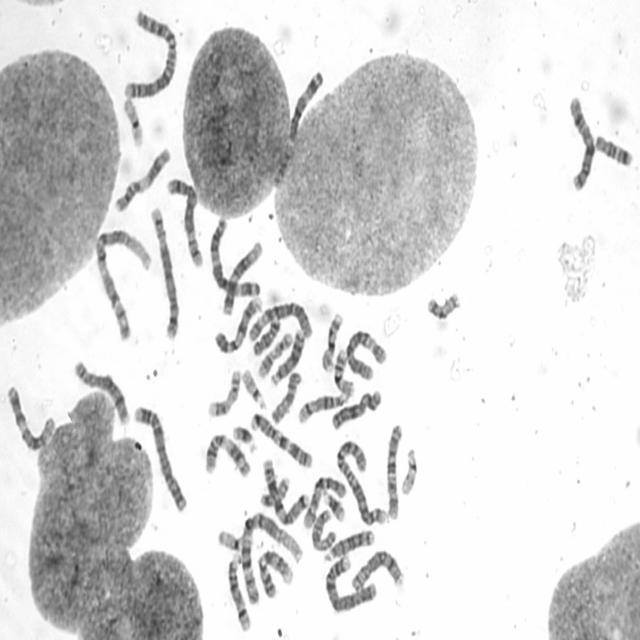A1: (93, 225, 154, 342), (238, 508, 304, 605)
A2: (121, 7, 179, 101), (333, 436, 388, 526)
A3: (208, 213, 260, 298), (286, 65, 325, 143)
B4: (132, 401, 189, 513), (323, 552, 378, 614)
B5: (149, 203, 180, 341), (165, 173, 205, 269)
C10: (300, 471, 346, 531), (384, 419, 404, 521)
C11: (112, 144, 172, 216), (202, 429, 251, 480)
C12: (6, 381, 56, 453), (221, 237, 264, 316)
C6: (247, 298, 314, 346), (343, 327, 388, 381)
C7: (248, 409, 314, 468), (260, 455, 310, 527)
C8: (72, 357, 132, 427), (348, 546, 406, 595)
C9: (212, 293, 264, 355), (255, 546, 295, 600)
D13: (268, 327, 305, 388), (322, 527, 376, 563)
D14: (226, 552, 252, 632), (296, 387, 352, 424)
D15: (268, 367, 302, 426), (310, 506, 336, 553)
E16: (319, 309, 344, 373), (332, 344, 356, 398)
E17: (206, 366, 242, 418), (258, 330, 294, 380)
E18: (592, 131, 633, 167), (250, 315, 282, 358)
F19: (121, 93, 145, 149), (216, 526, 244, 554)
F20: (422, 292, 464, 324), (258, 478, 290, 511)
G21: (321, 487, 346, 522), (231, 421, 257, 454)
G22: (240, 366, 267, 410), (398, 444, 418, 496)
X: (564, 92, 596, 195), (329, 385, 383, 432)
